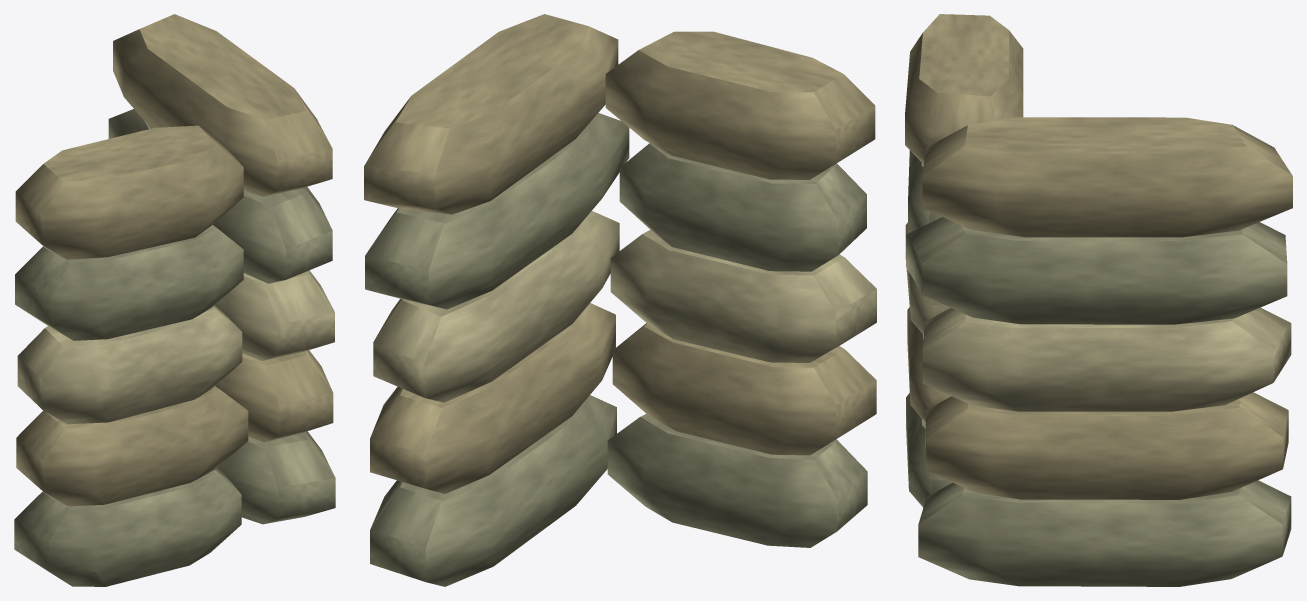
File: stone-corner-3.fbx
3 renders of one model, left to right at view 1: azimuth 30°, elevation 25°; view 2: azimuth 150°, elevation 25°; view 3: azimuth 270°, elevation 25°, orthographic. The views are drawn at different scales.
Parts seen in each view (by area): view 1: stone-corner-3__Geometry; view 2: stone-corner-3__Geometry; view 3: stone-corner-3__Geometry.
Part boxes in pixels (box(x1,y1,x2,y2)): stone-corner-3__Geometry: box(14, 14, 335, 586); stone-corner-3__Geometry: box(364, 14, 876, 586); stone-corner-3__Geometry: box(905, 14, 1292, 586).
Size of the model in its own units: 0.9436 by 1.19 by 0.9674.
Materials: 1 (1 with a texture image).
